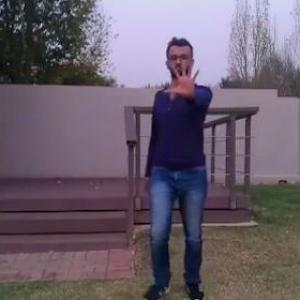follow_hand: (164, 58, 202, 97)
